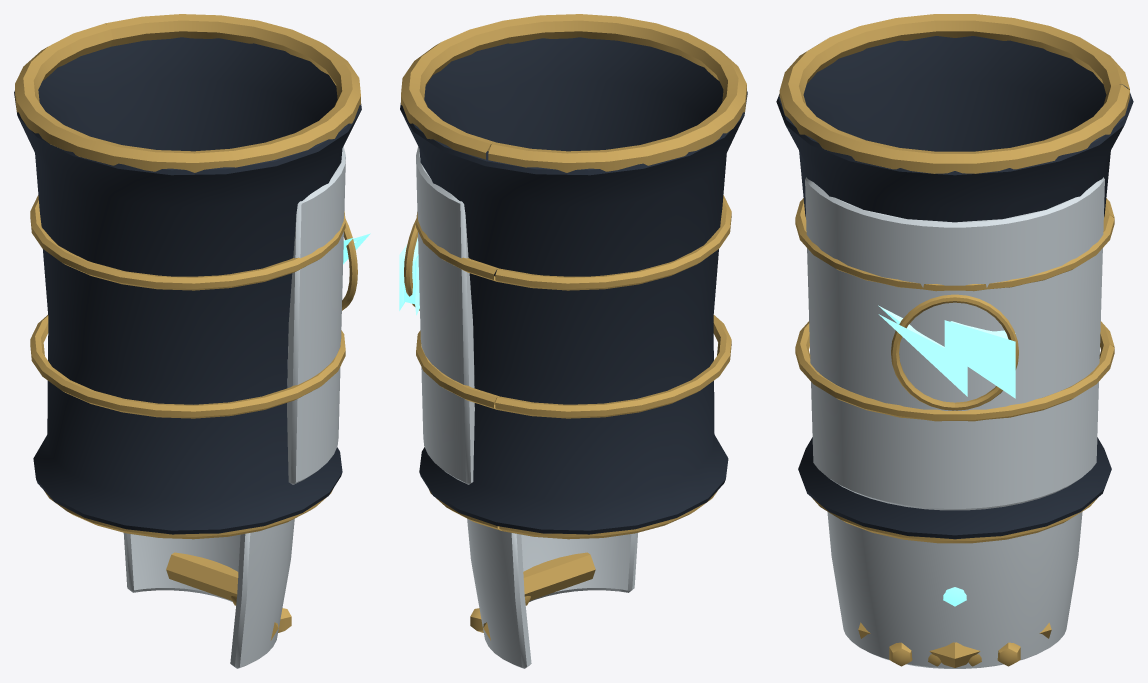
Rendered from boss_truth_of_raikuru_gloves_1.glb.
3 views of the same model, side by side, from view 1: azimuth 30°, elevation 25°; view 2: azimuth 150°, elevation 25°; view 3: azimuth 270°, elevation 25° (orthographic).
Visible parts, largest first — view 1: boss_truth_of_raikuru_gloves_1, AT_hand_L; view 2: boss_truth_of_raikuru_gloves_1, AT_hand_L; view 3: boss_truth_of_raikuru_gloves_1, AT_hand_L.
Boxes of the visible parts, x1,y1,x2,y2 form: boss_truth_of_raikuru_gloves_1: [14, 14, 370, 539]; AT_hand_L: [123, 519, 294, 668]; boss_truth_of_raikuru_gloves_1: [399, 14, 747, 539]; AT_hand_L: [467, 518, 637, 668]; boss_truth_of_raikuru_gloves_1: [776, 14, 1133, 543]; AT_hand_L: [827, 511, 1082, 668].
Size of the model in its own units: 0.1971 by 0.3408 by 0.2004.
